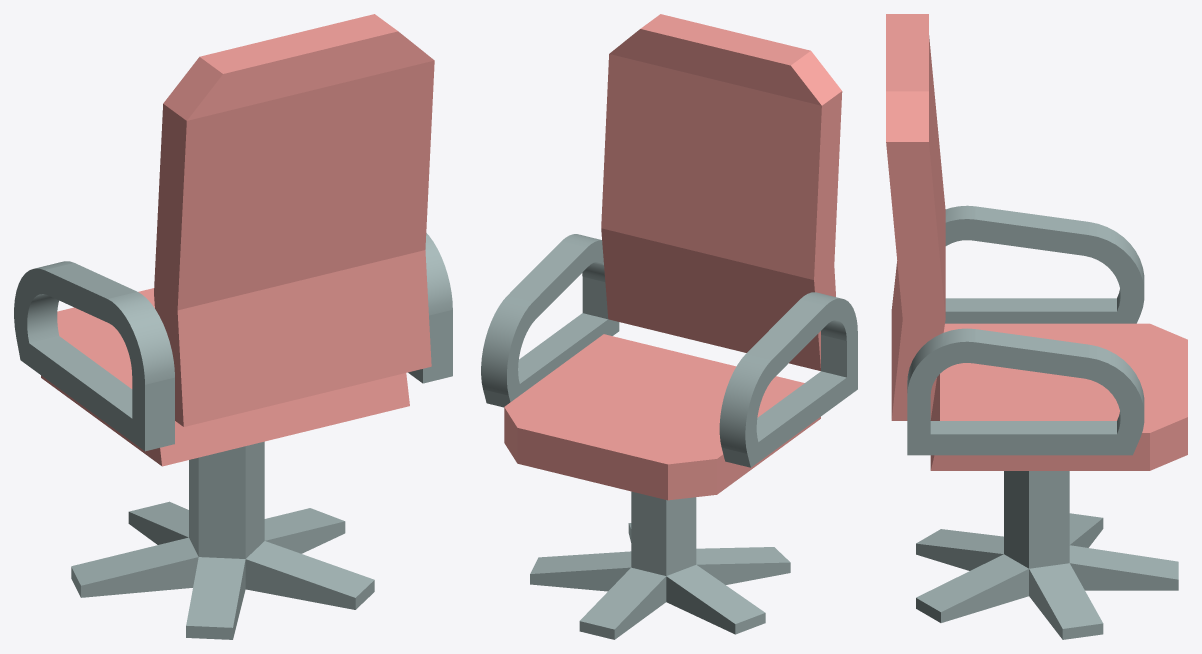
File: chairDesk.gltf
3 views of the same model, side by side, from view 1: azimuth 30°, elevation 25°; view 2: azimuth 150°, elevation 25°; view 3: azimuth 270°, elevation 25° (orthographic). The views are drawn at different scales.
Visible parts, largest first — view 1: chair, chairDesk; view 2: chair, chairDesk; view 3: chair, chairDesk.
Part boxes in pixels (bbox=[...]): chair: bbox=[14, 14, 452, 466]; chairDesk: bbox=[71, 441, 374, 639]; chair: bbox=[481, 14, 857, 500]; chairDesk: bbox=[530, 491, 790, 639]; chair: bbox=[886, 14, 1187, 470]; chairDesk: bbox=[916, 471, 1178, 639].
Bounding box in the file's own units: 3.35 × 6.08 × 3.14.
